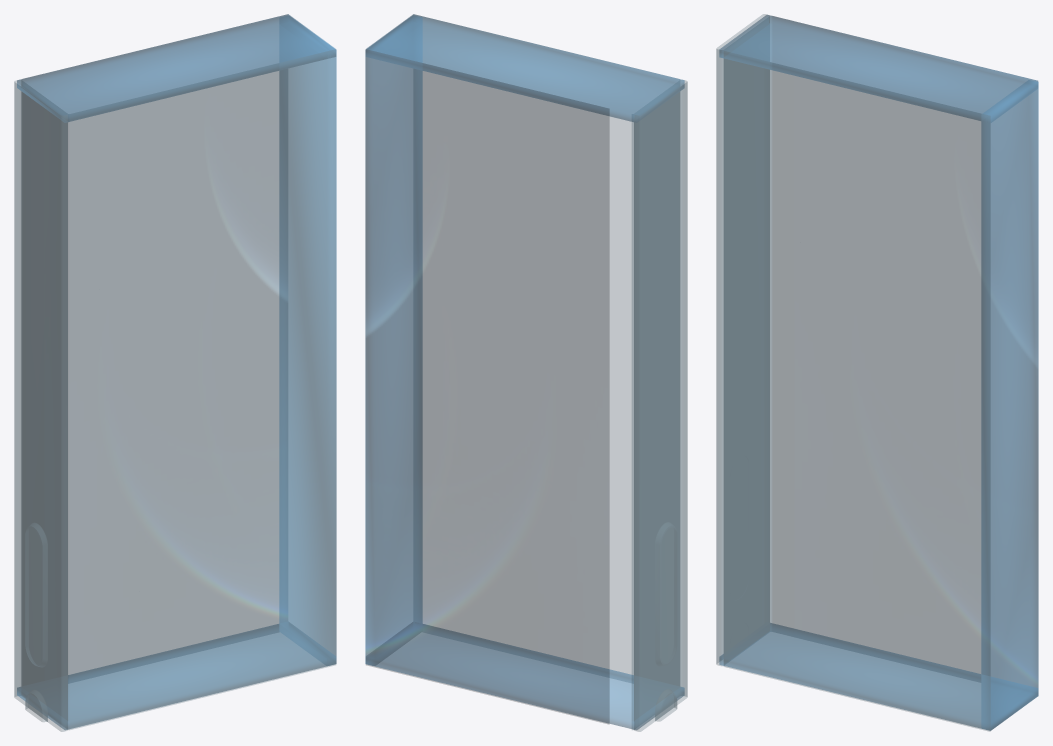
3 views of the same model, side by side, from view 1: azimuth 30°, elevation 25°; view 2: azimuth 150°, elevation 25°; view 3: azimuth 330°, elevation 25° (orthographic).
Visible parts, largest first — view 1: Apple_Logo_Logo_0, Box007, Box006, Box008; view 2: Apple_Logo_Logo_0, Box007, Box006, Box008; view 3: Apple_Logo_Logo_0, Box007, Box006, Box008.
Boxes of the visible parts, x1,y1,x2,y2 form: Apple_Logo_Logo_0: (14,20,335,731); Box007: (279,15,336,665); Box006: (17,14,335,122); Box008: (17,622,335,729); Apple_Logo_Logo_0: (366,15,687,731); Box007: (365,15,422,665); Box006: (366,14,684,122); Box008: (366,622,684,729); Apple_Logo_Logo_0: (716,14,1031,731); Box007: (981,80,1038,730); Box006: (719,15,1037,122); Box008: (719,623,1037,730).
Size of the model in its own units: 45.9 by 96.69 by 13.65.
Materials: 5 (1 with a texture image).
